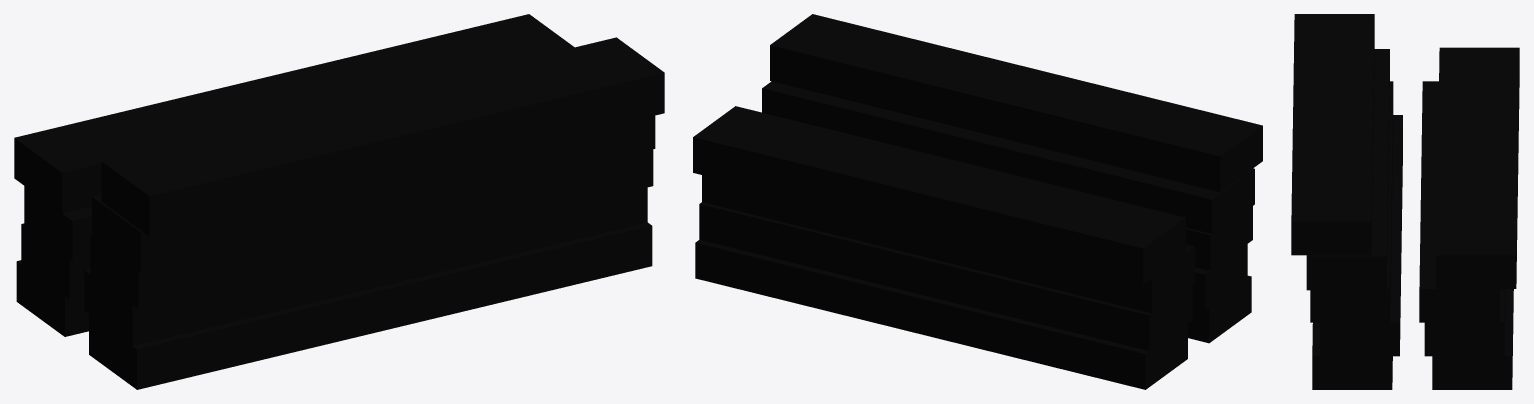
Rendered from Chopsticks.glb.
The picture shows the model from 3 angles, left to right: view 1: azimuth 30°, elevation 25°; view 2: azimuth 150°, elevation 25°; view 3: azimuth 270°, elevation 25°; orthographic projection. The views are drawn at different scales.
Visible parts, largest first — view 1: sushi_bar_stick_geo; view 2: sushi_bar_stick_geo; view 3: sushi_bar_stick_geo.
Part boxes in pixels (x1,y1,x2,y2): sushi_bar_stick_geo: [14, 14, 664, 389]; sushi_bar_stick_geo: [693, 14, 1262, 389]; sushi_bar_stick_geo: [1291, 14, 1519, 389].
Size of the model in its own units: 0.2656 by 0.1002 by 0.1232.
Materials: 1 (1 with a texture image).
